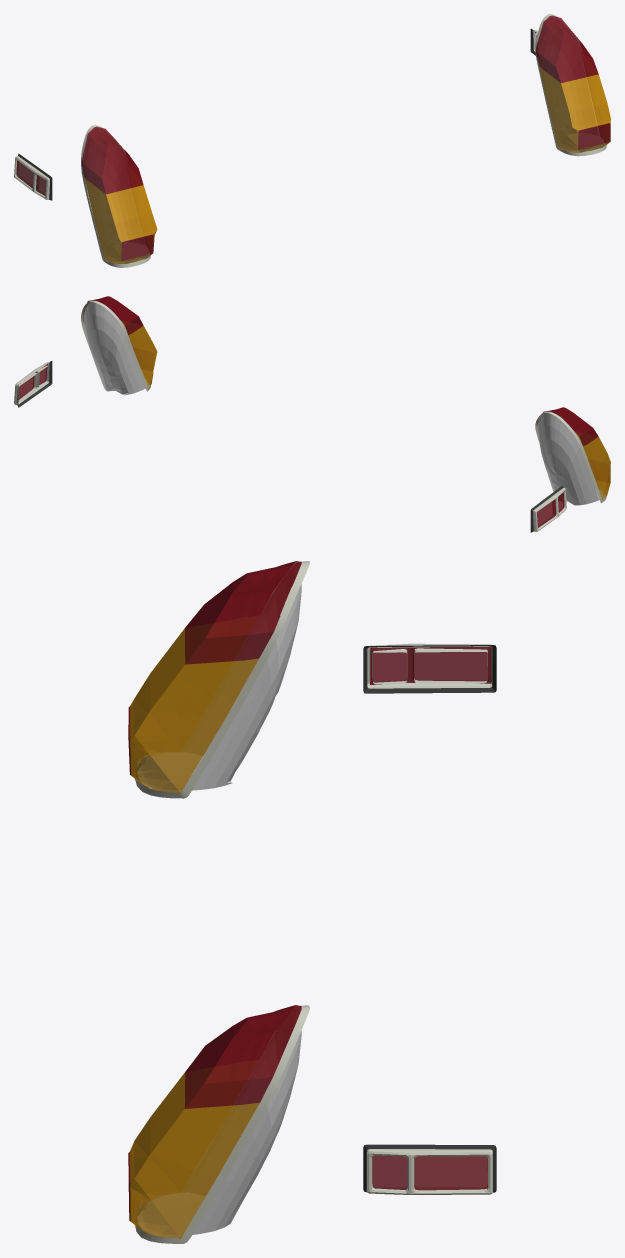
Rendered from rear_lights.dae.
The picture shows the model from 3 angles, top to bottom: view 1: azimuth 30°, elevation 25°; view 2: azimuth 150°, elevation 25°; view 3: azimuth 270°, elevation 25°; orthographic projection. The views are drawn at different scales.
Parts seen in each view (by area): view 1: rear_lights_inner, rear_lights_orange, rear_lights_red, rear_lights_trim, rear_lights_reflect, rear_side_brakelight, side_brakelight_glass; view 2: rear_lights_inner, rear_lights_orange, rear_lights_red, rear_side_brakelight, rear_lights_trim, side_brakelight_glass, rear_lights_reflect, side_brakelight_trim; view 3: rear_lights_orange, rear_lights_inner, rear_lights_red, side_brakelight_glass, rear_lights_trim, rear_side_brakelight, side_brakelight_trim.
Part boxes in pixels (bbox=[...]): rear_lights_inner: bbox=[84, 17, 603, 261]; rear_lights_orange: bbox=[84, 57, 610, 263]; rear_lights_red: bbox=[81, 15, 598, 194]; rear_lights_trim: bbox=[81, 14, 606, 267]; rear_lights_reflect: bbox=[121, 123, 610, 260]; rear_side_brakelight: bbox=[14, 30, 537, 199]; side_brakelight_glass: bbox=[16, 32, 536, 195]; rear_lights_inner: bbox=[83, 302, 603, 505]; rear_lights_orange: bbox=[84, 321, 610, 499]; rear_lights_red: bbox=[83, 296, 598, 446]; rear_side_brakelight: bbox=[14, 362, 566, 531]; rear_lights_trim: bbox=[81, 300, 606, 503]; side_brakelight_glass: bbox=[17, 364, 564, 527]; rear_lights_reflect: bbox=[133, 348, 609, 482]; side_brakelight_trim: bbox=[17, 361, 563, 532]; rear_lights_orange: bbox=[129, 616, 259, 1238]; rear_lights_inner: bbox=[142, 564, 301, 1234]; rear_lights_red: bbox=[185, 561, 301, 1108]; side_brakelight_glass: bbox=[370, 646, 491, 1190]; rear_lights_trim: bbox=[135, 561, 309, 1243]; rear_side_brakelight: bbox=[366, 643, 492, 1194]; side_brakelight_trim: bbox=[363, 645, 496, 1192].
Bounding box in the file's own units: 1.5 × 0.4557 × 0.2961.
